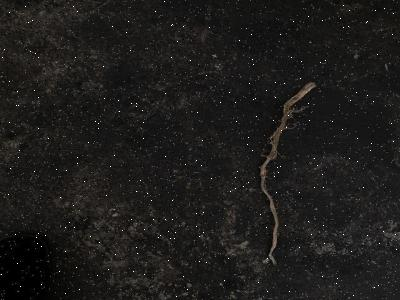Root: (260, 82, 316, 264)
